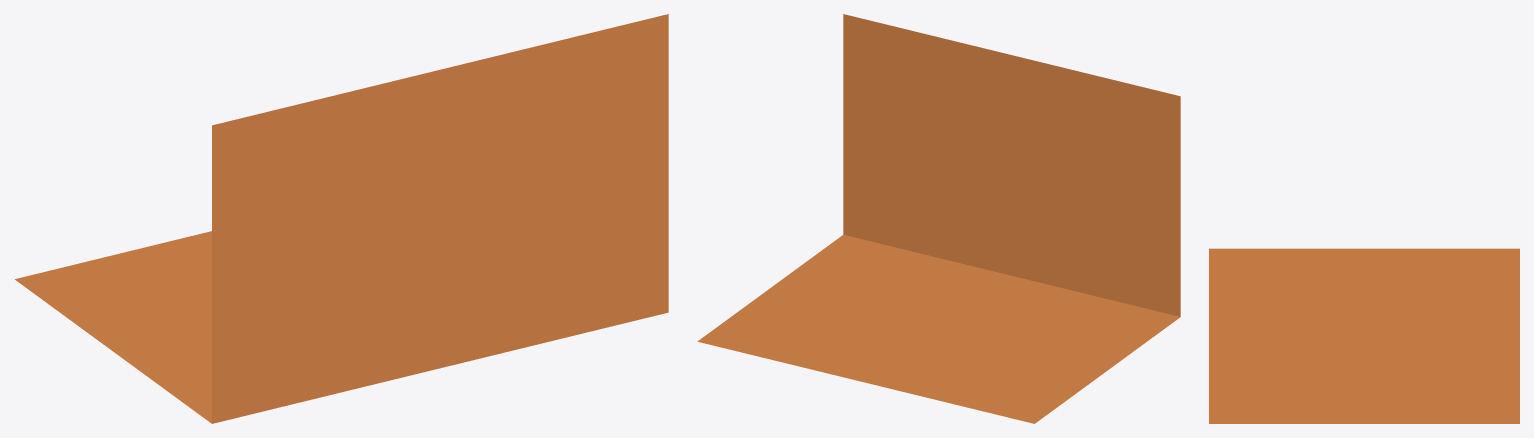
File: photo_test.glb
The picture shows the model from 3 angles, left to right: view 1: azimuth 30°, elevation 25°; view 2: azimuth 150°, elevation 25°; view 3: azimuth 270°, elevation 25°; orthographic projection. The views are drawn at different scales.
Parts seen in each view (by area): view 1: Wall A, Floor "B"; view 2: Wall A, Floor "B"; view 3: Floor "B".
Part boxes in pixels (x1,y1,x2,y2): Wall A: [212, 14, 668, 423]; Floor "B": [15, 231, 211, 423]; Wall A: [843, 14, 1180, 316]; Floor "B": [697, 234, 1180, 423]; Floor "B": [1209, 248, 1519, 423].
Size of the model in its own units: 4 by 2.5 by 3.
Materials: 2 (2 with a texture image).
